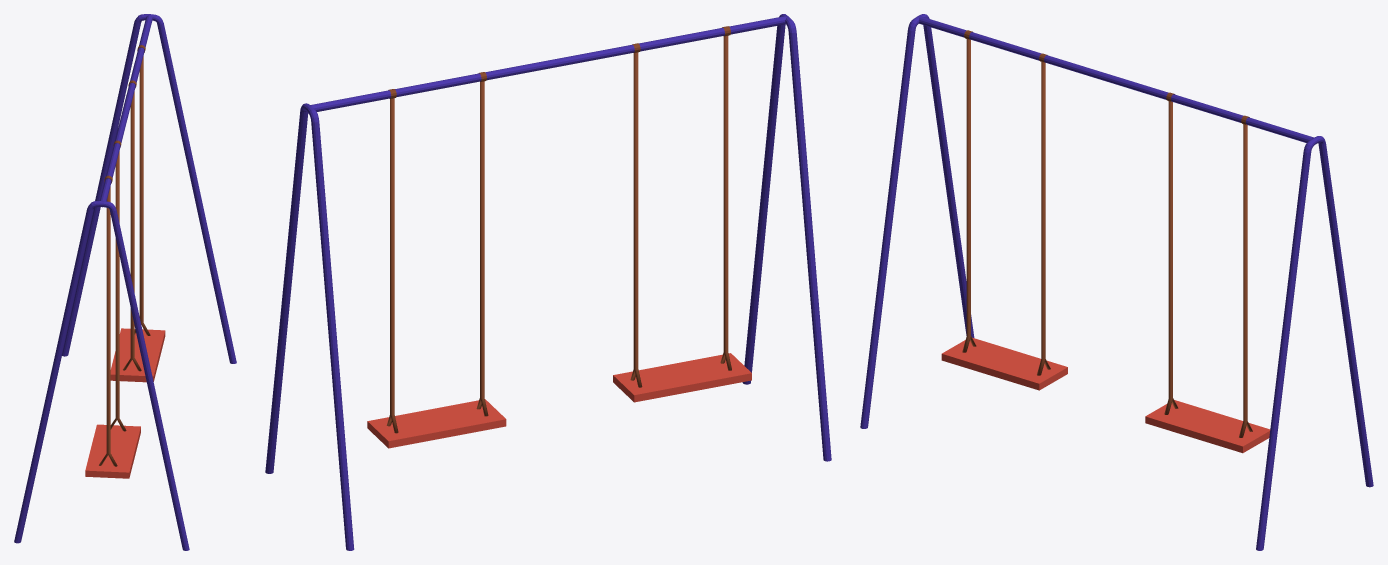
Rendered from Patio_Amaca.fbx.
3 renders of one model, left to right at view 1: azimuth 30°, elevation 25°; view 2: azimuth 150°, elevation 25°; view 3: azimuth 270°, elevation 25°, orthographic. The views are drawn at different scales.
Parts seen in each view (by area): view 1: Patio_Amaca; view 2: Patio_Amaca; view 3: Patio_Amaca.
Boxes of the visible parts, <box> form: Patio_Amaca: <box>14,14,236,550</box>; Patio_Amaca: <box>265,14,831,550</box>; Patio_Amaca: <box>860,14,1373,550</box>.
Bounding box in the file's own units: 1520 × 1427 × 1746.
